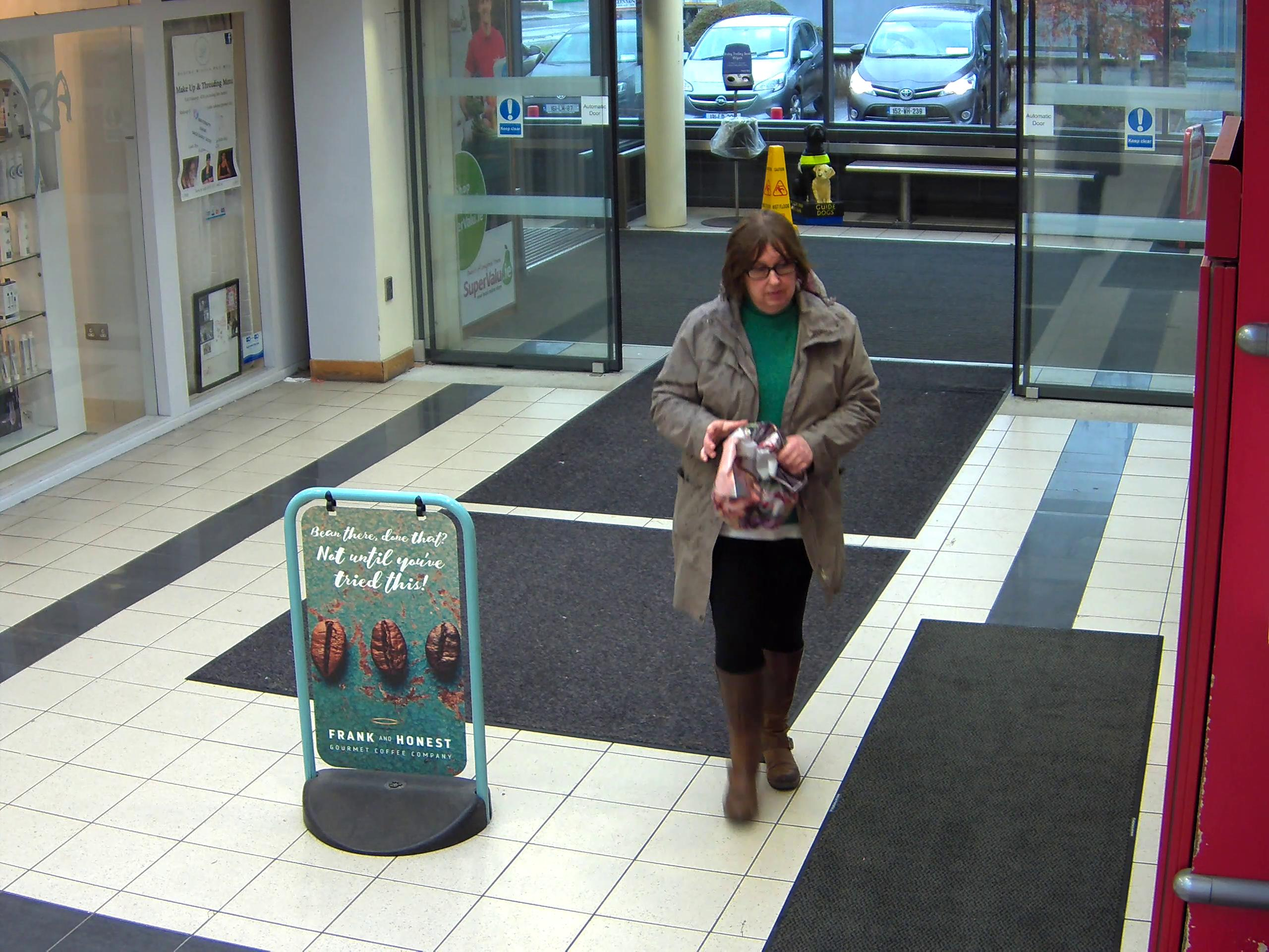empty-shopping-bags: (711, 420, 806, 531)
person: (650, 208, 883, 824)
person-with-empty-shopping-bag-s-: (651, 208, 886, 823)
